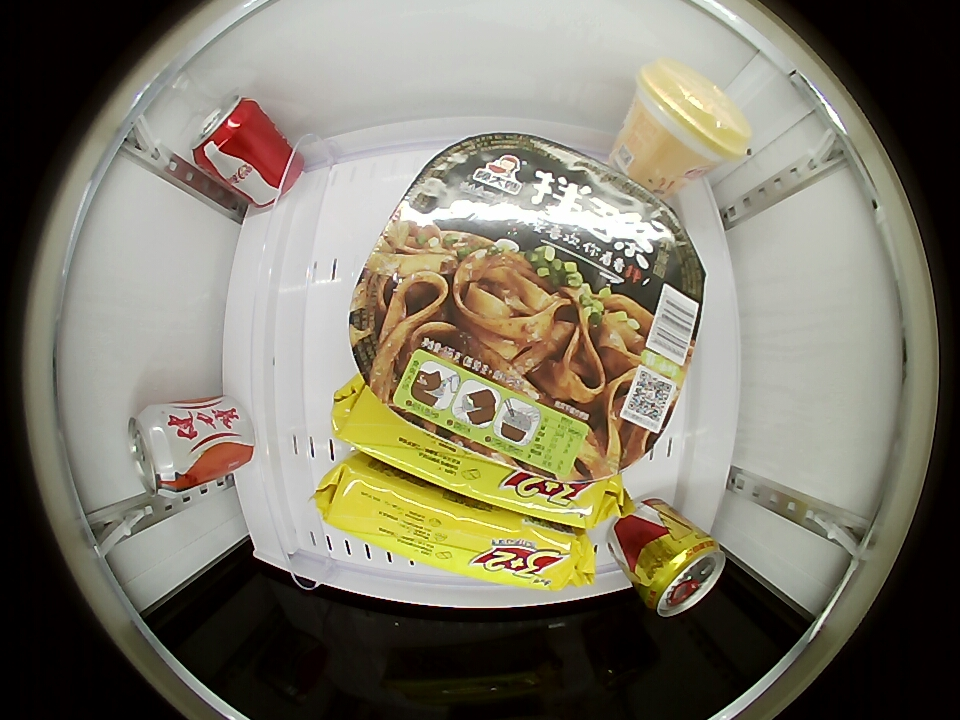3+2-2: (340, 381, 618, 530), (336, 477, 580, 590)
dongpeng: (639, 531, 726, 617)
gudasao: (351, 134, 709, 481)
jianlibao: (128, 404, 191, 496)
kele: (190, 95, 260, 170)
youlemei: (631, 59, 752, 169)
